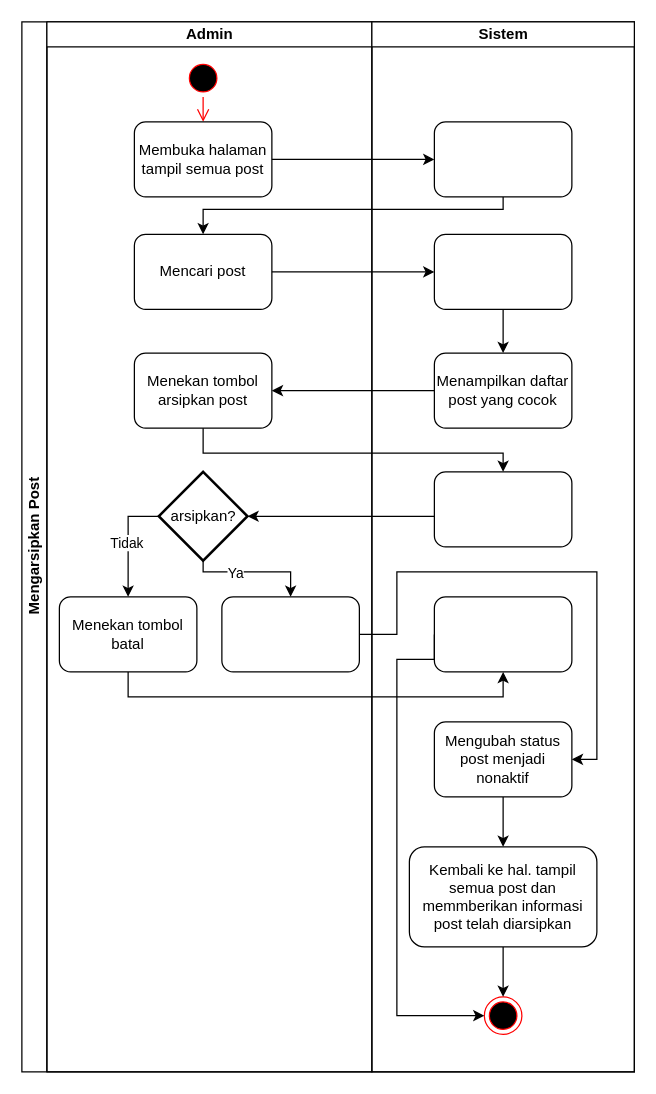
This 656x1094 diagram has some shape labels left out. The centre of each missing label's shape, as x and y in pixels:
Menampilkan halaman tampil semua post: point 502,159
Menampilkan popup konfirmasi: point 502,509
Mencari data: point 502,271
Menekan tombol hapus: point 290,634
Menghilangkan popup: point 502,634
